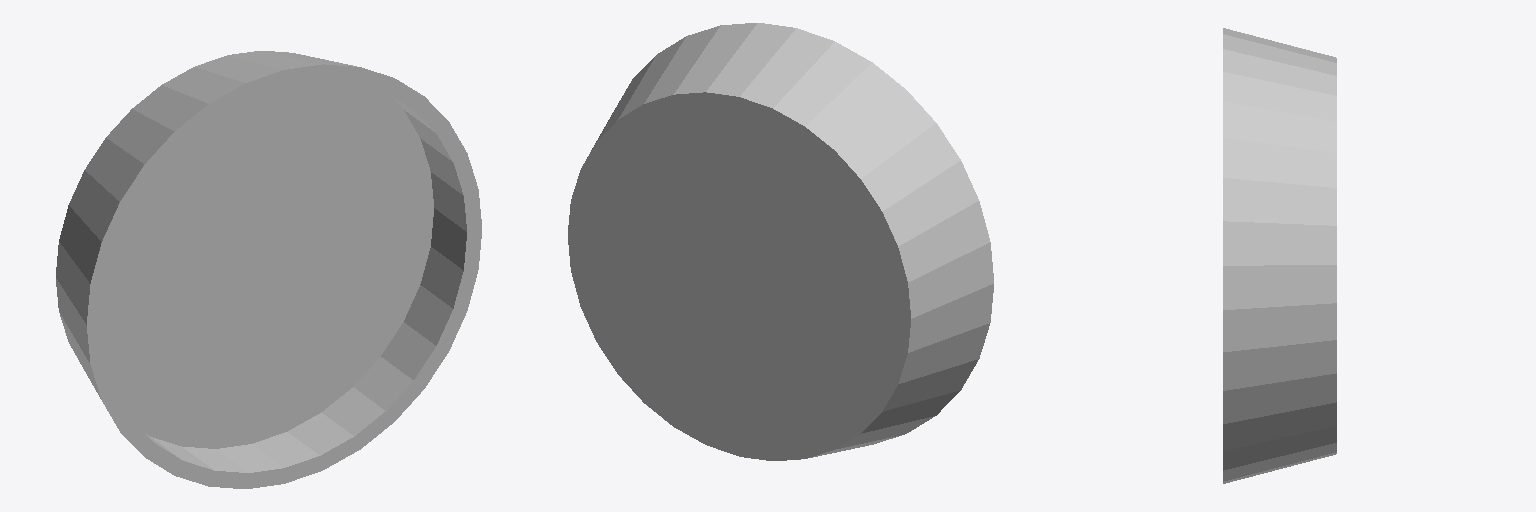
The model's file is Buckets.obj.
3 renders of one model, left to right at view 1: azimuth 30°, elevation 25°; view 2: azimuth 150°, elevation 25°; view 3: azimuth 270°, elevation 25°, orthographic.
Parts seen in each view (by area): view 1: Cylinder; view 2: Cylinder; view 3: Cylinder.
Part boxes in pixels (left/top/right/bottom): Cylinder: left=56, top=51, right=481, bottom=488; Cylinder: left=568, top=23, right=993, bottom=460; Cylinder: left=1223, top=28, right=1336, bottom=483.
Size of the model in its own units: 1.2 by 1.2 by 0.3.